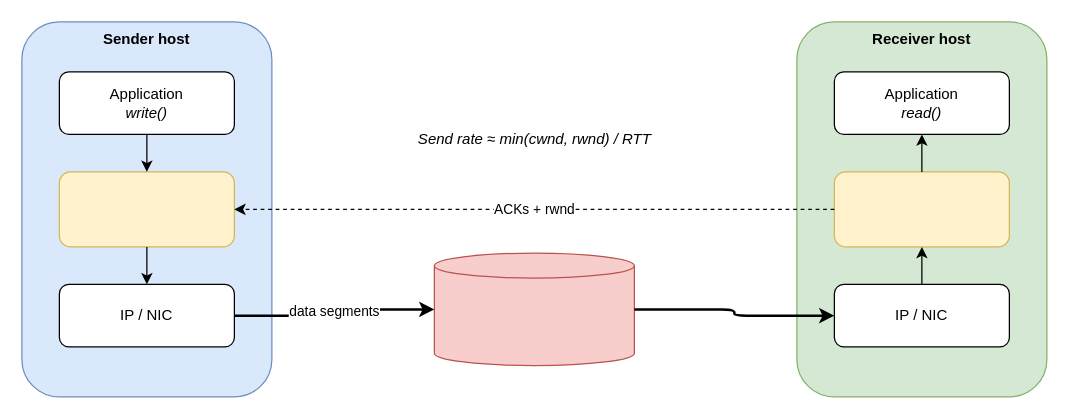
This 1069x419 diagram has some shape labels left out. Here are the shapes that lost their labels. From the top down, the centre of each, then its label:
At pixel 146 209: "TCP cwnd, ssthresh, RTO".
At pixel 921 209: "TCP rwnd (advertised)".
At pixel 533 309: "Bottleneck router queue fills, drops".
